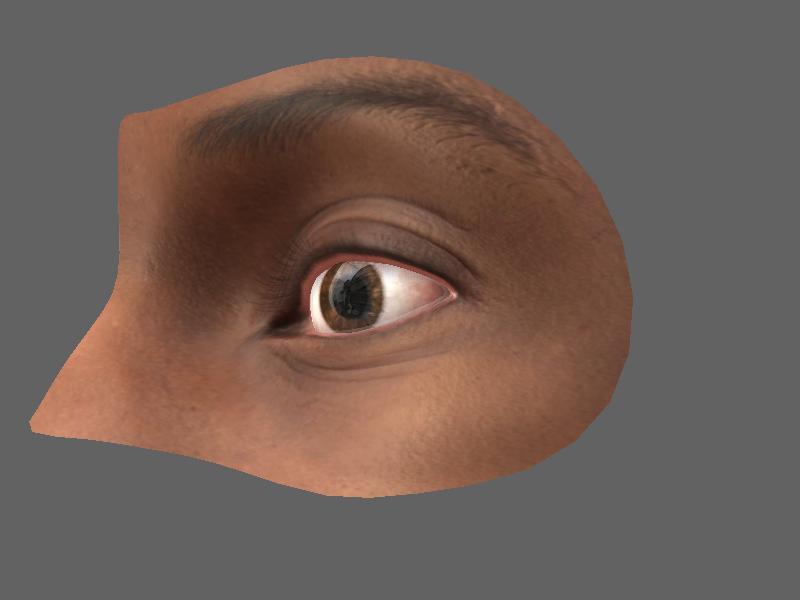iris: (316, 263, 388, 332)
